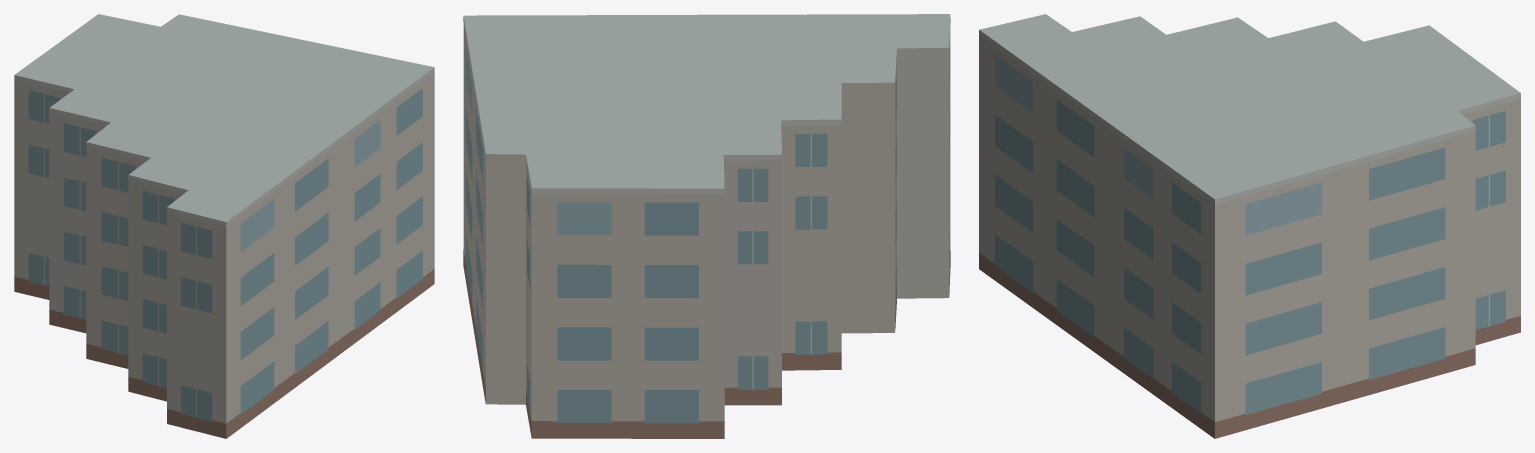
File: survey-upis-32476283.glb
3 views of the same model, side by side, from view 1: azimuth 30°, elevation 25°; view 2: azimuth 150°, elevation 25°; view 3: azimuth 270°, elevation 25° (orthographic). The views are drawn at different scales.
Parts seen in each view (by area): view 1: survey-upis-32476283.tmp; view 2: survey-upis-32476283.tmp; view 3: survey-upis-32476283.tmp.
Part boxes in pixels (box(x1,y1,x2,y2)): survey-upis-32476283.tmp: box(14, 14, 434, 438); survey-upis-32476283.tmp: box(463, 14, 950, 438); survey-upis-32476283.tmp: box(979, 14, 1520, 438).
Bounding box in the file's own units: 17.93 × 10.79 × 22.14.
